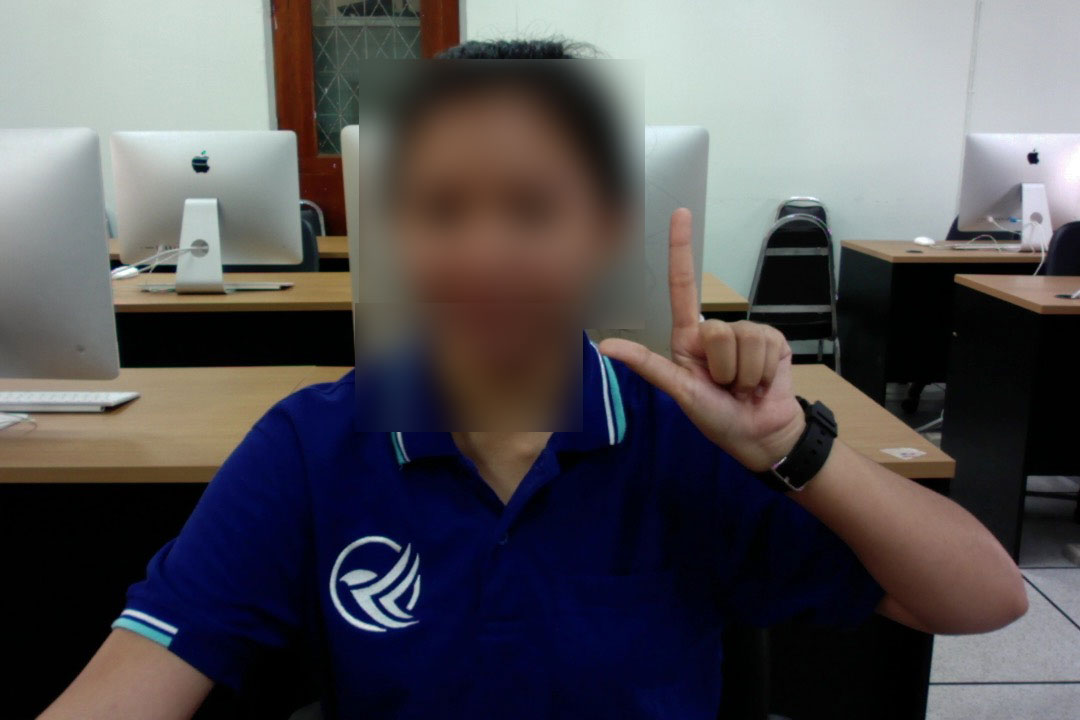lor: (585, 195, 845, 433)
